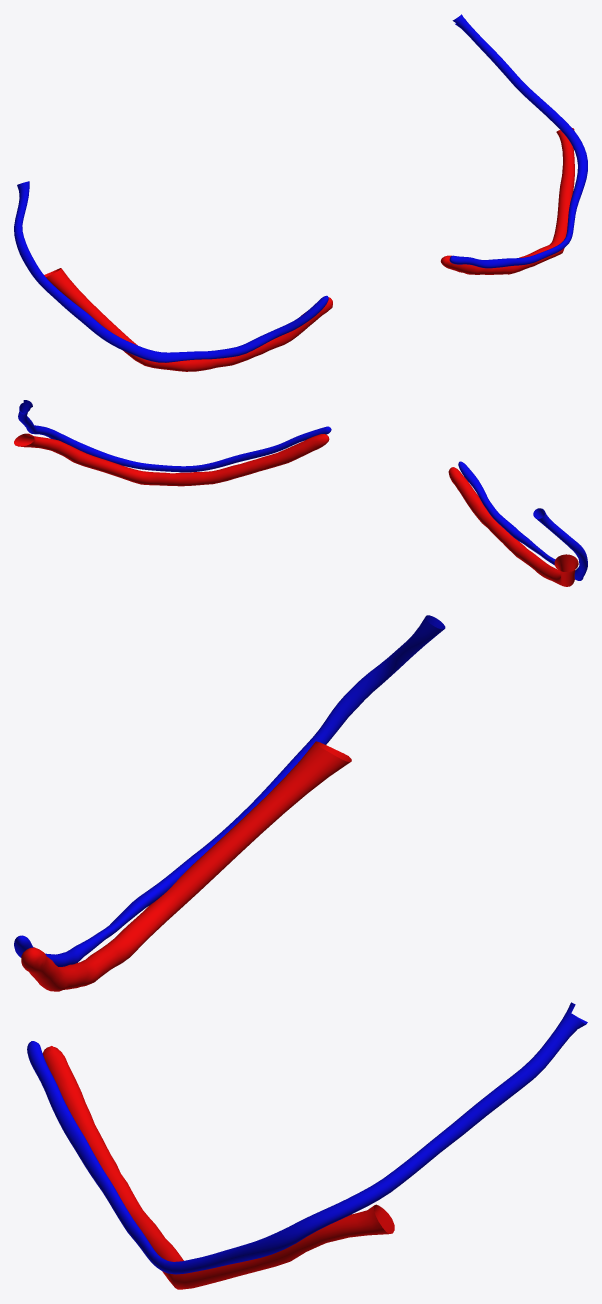
File: VH_F_Blood_Vasculature_Uterus.fbx
The picture shows the model from 3 angles, top to bottom: view 1: azimuth 30°, elevation 25°; view 2: azimuth 150°, elevation 25°; view 3: azimuth 270°, elevation 25°; orthographic projection. The views are drawn at different scales.
Visible parts, largest first — view 1: VH_F_right_uterine_vein, VH_F_left_uterine_vein, VH_F_right_uterine_artery, VH_F_left_uterine_artery; view 2: VH_F_left_uterine_artery, VH_F_left_uterine_vein, VH_F_right_uterine_artery, VH_F_right_uterine_vein; view 3: VH_F_left_uterine_vein, VH_F_right_uterine_artery, VH_F_left_uterine_artery, VH_F_right_uterine_vein.
Part boxes in pixels (x1,y1,x2,y2): VH_F_right_uterine_vein: [14, 181, 328, 362]; VH_F_left_uterine_vein: [449, 14, 587, 268]; VH_F_right_uterine_artery: [44, 268, 332, 371]; VH_F_left_uterine_artery: [440, 128, 574, 274]; VH_F_left_uterine_artery: [14, 433, 329, 486]; VH_F_left_uterine_vein: [18, 400, 331, 472]; VH_F_right_uterine_artery: [448, 467, 578, 586]; VH_F_right_uterine_vein: [458, 461, 587, 580]; VH_F_left_uterine_vein: [27, 1002, 587, 1274]; VH_F_right_uterine_artery: [21, 741, 351, 991]; VH_F_left_uterine_artery: [42, 1046, 394, 1289]; VH_F_right_uterine_vein: [14, 615, 445, 966].
Bounding box in the file's own units: 12.22 × 3.53 × 5.87.
